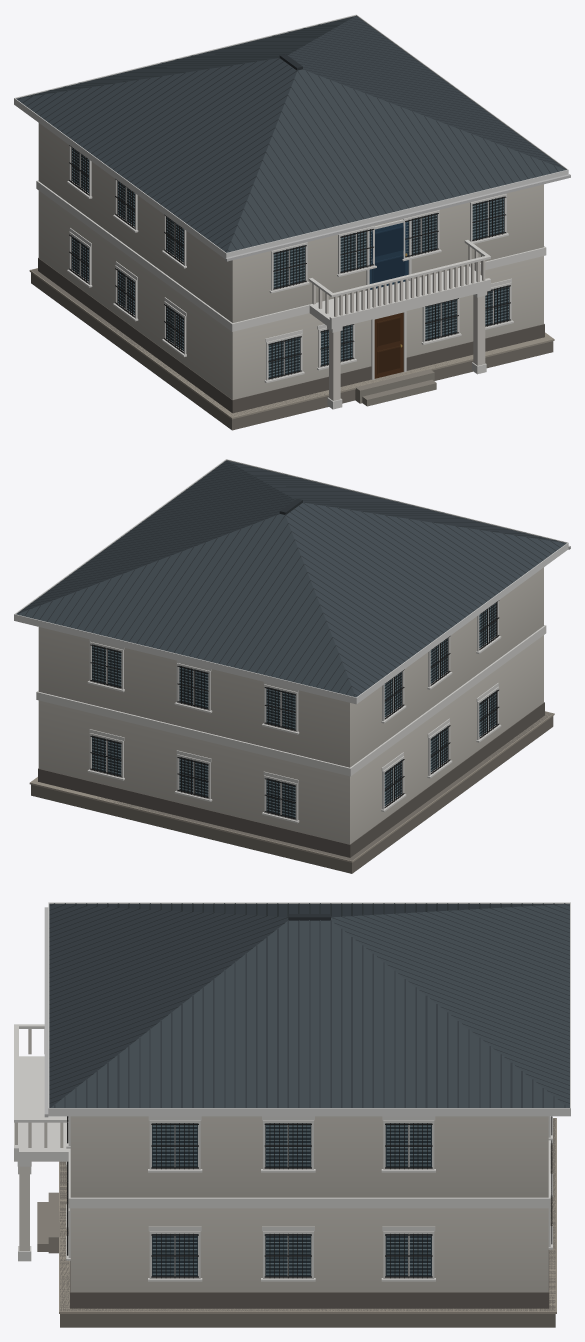
The model's file is ns_storey.glb.
The picture shows the model from 3 angles, top to bottom: view 1: azimuth 30°, elevation 25°; view 2: azimuth 150°, elevation 25°; view 3: azimuth 270°, elevation 25°; orthographic projection. The views are drawn at different scales.
Parts seen in each view (by area): view 1: ns_storey; view 2: ns_storey; view 3: ns_storey.
Boxes of the visible parts, x1=… form: ns_storey: x1=14, y1=14, x2=570, y2=430; ns_storey: x1=14, y1=459, x2=570, y2=873; ns_storey: x1=14, y1=902, x2=570, y2=1327.
Size of the model in its own units: 13.82 by 9.83 by 15.73.
